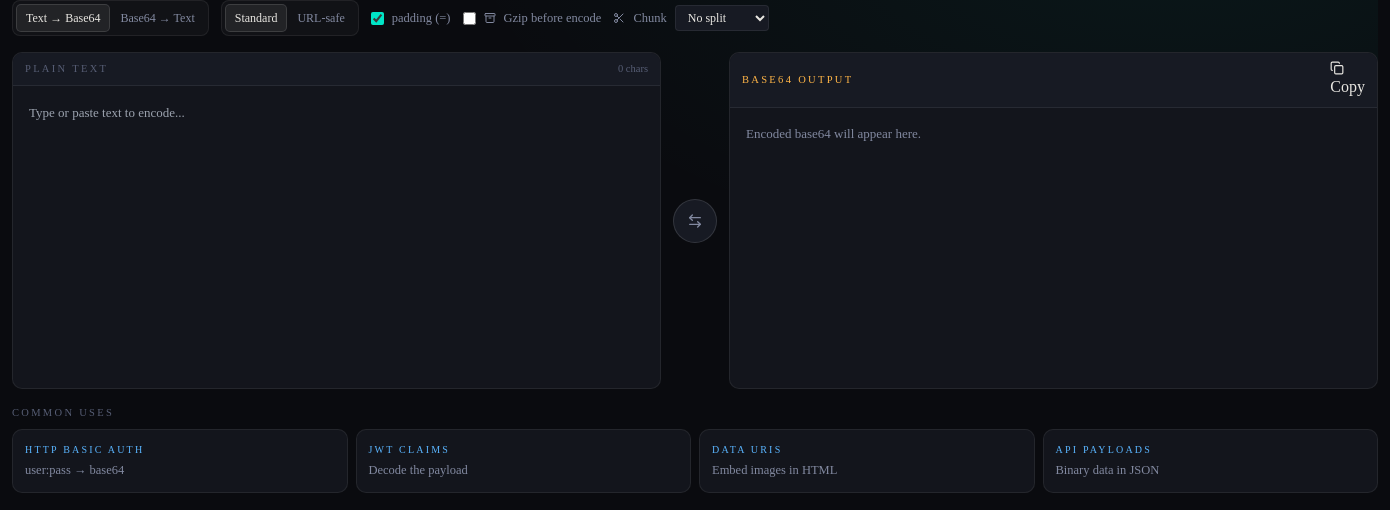
TextTab switches › swaps a valid conversion result
Type "Hello world" into the text box labelled "text to encode".
click(336, 237); type("Hello world")  # box [13, 86, 660, 388]
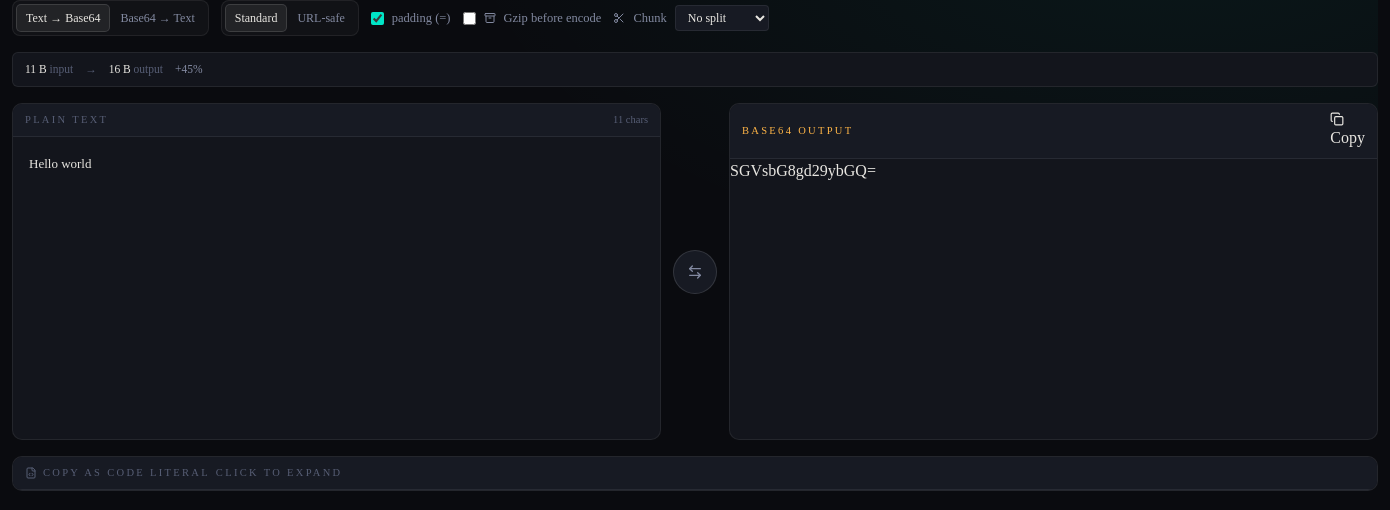
Result: the text "SGVsbG8gd29ybGQ=" is shown at [730, 162, 876, 179]
Click the button named "Swap direction".
click(695, 272)  # box [673, 250, 717, 294]
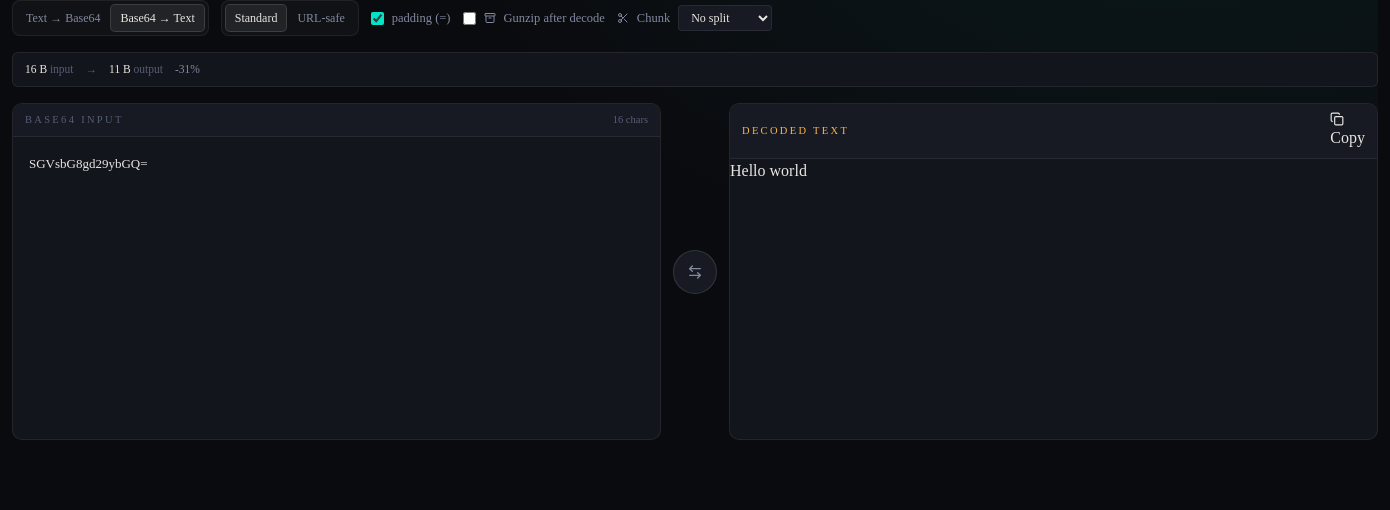
Result: the text box named "base64 to decode" holds "SGVsbG8gd29ybGQ=" at [13, 137, 660, 439]
Result: the text "Hello world" is shown at [730, 162, 807, 179]
